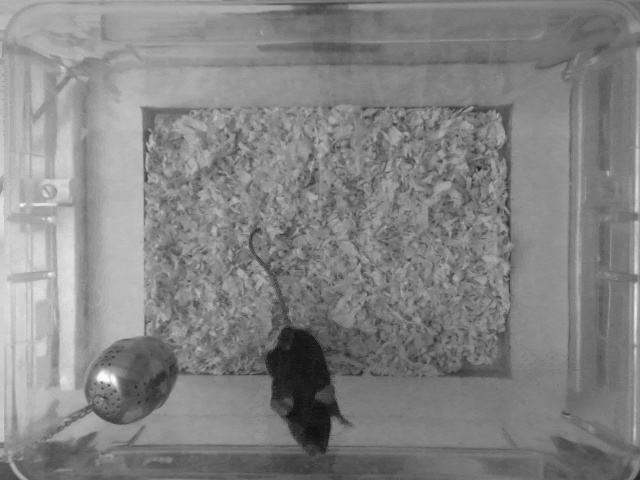mice: (247, 226, 356, 458)
